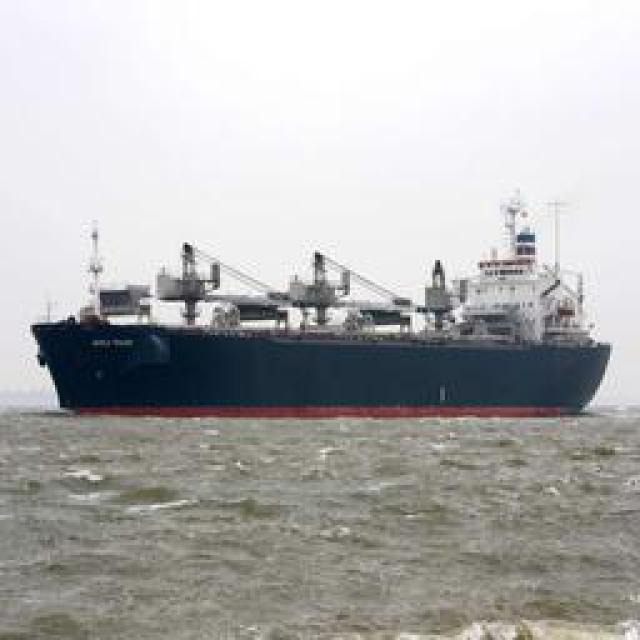Ship: (42, 191, 610, 416)
